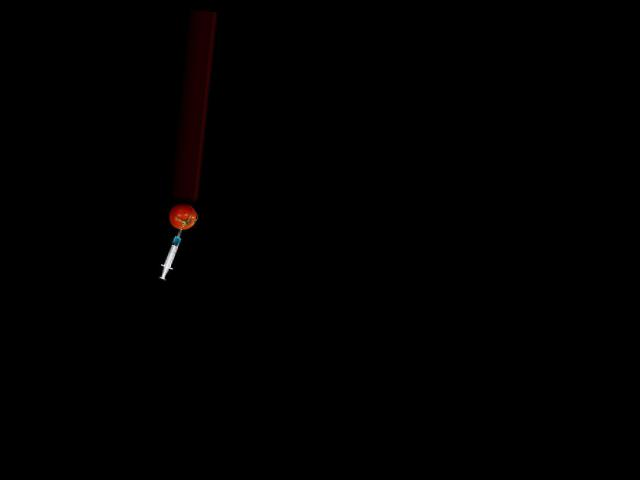tomato: (167, 203, 198, 230)
